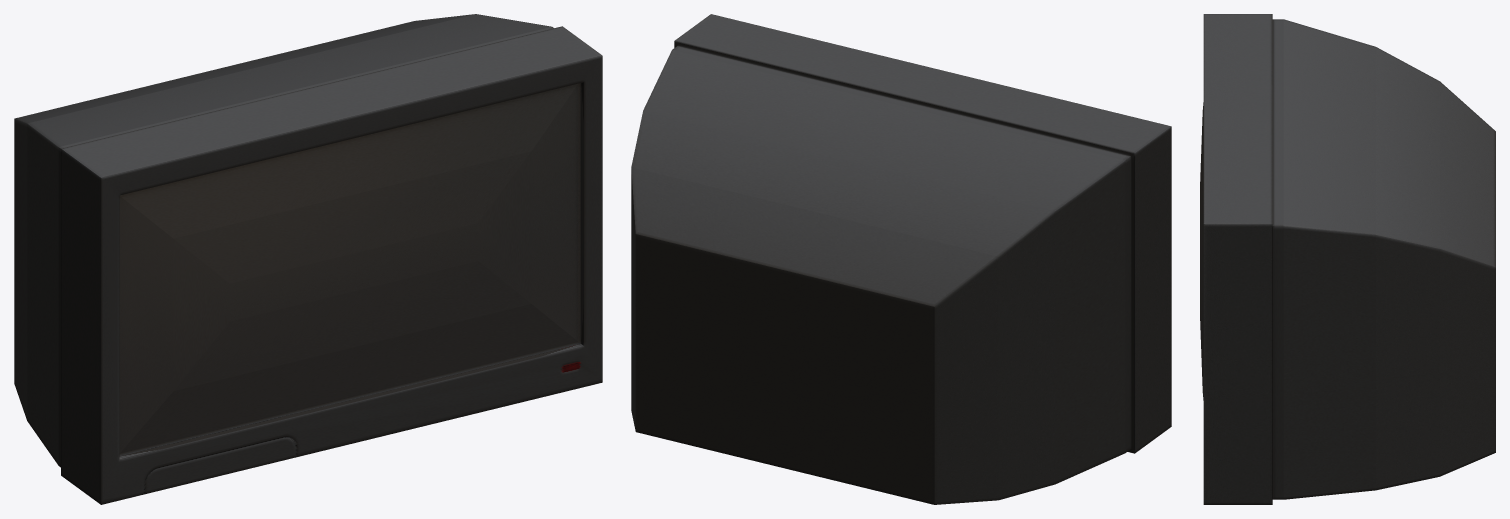
The picture shows the model from 3 angles, left to right: view 1: azimuth 30°, elevation 25°; view 2: azimuth 150°, elevation 25°; view 3: azimuth 270°, elevation 25°; orthographic projection. The views are drawn at different scales.
Visible parts, largest first — view 1: tv01.001; view 2: tv01.001; view 3: tv01.001.
Boxes of the visible parts, x1=… form: tv01.001: x1=14, y1=14, x2=602, y2=504; tv01.001: x1=631, y1=14, x2=1171, y2=504; tv01.001: x1=1200, y1=14, x2=1495, y2=504.
Size of the model in its own units: 0.7577 by 0.4507 by 0.4722.
1 material, 1 textured.
